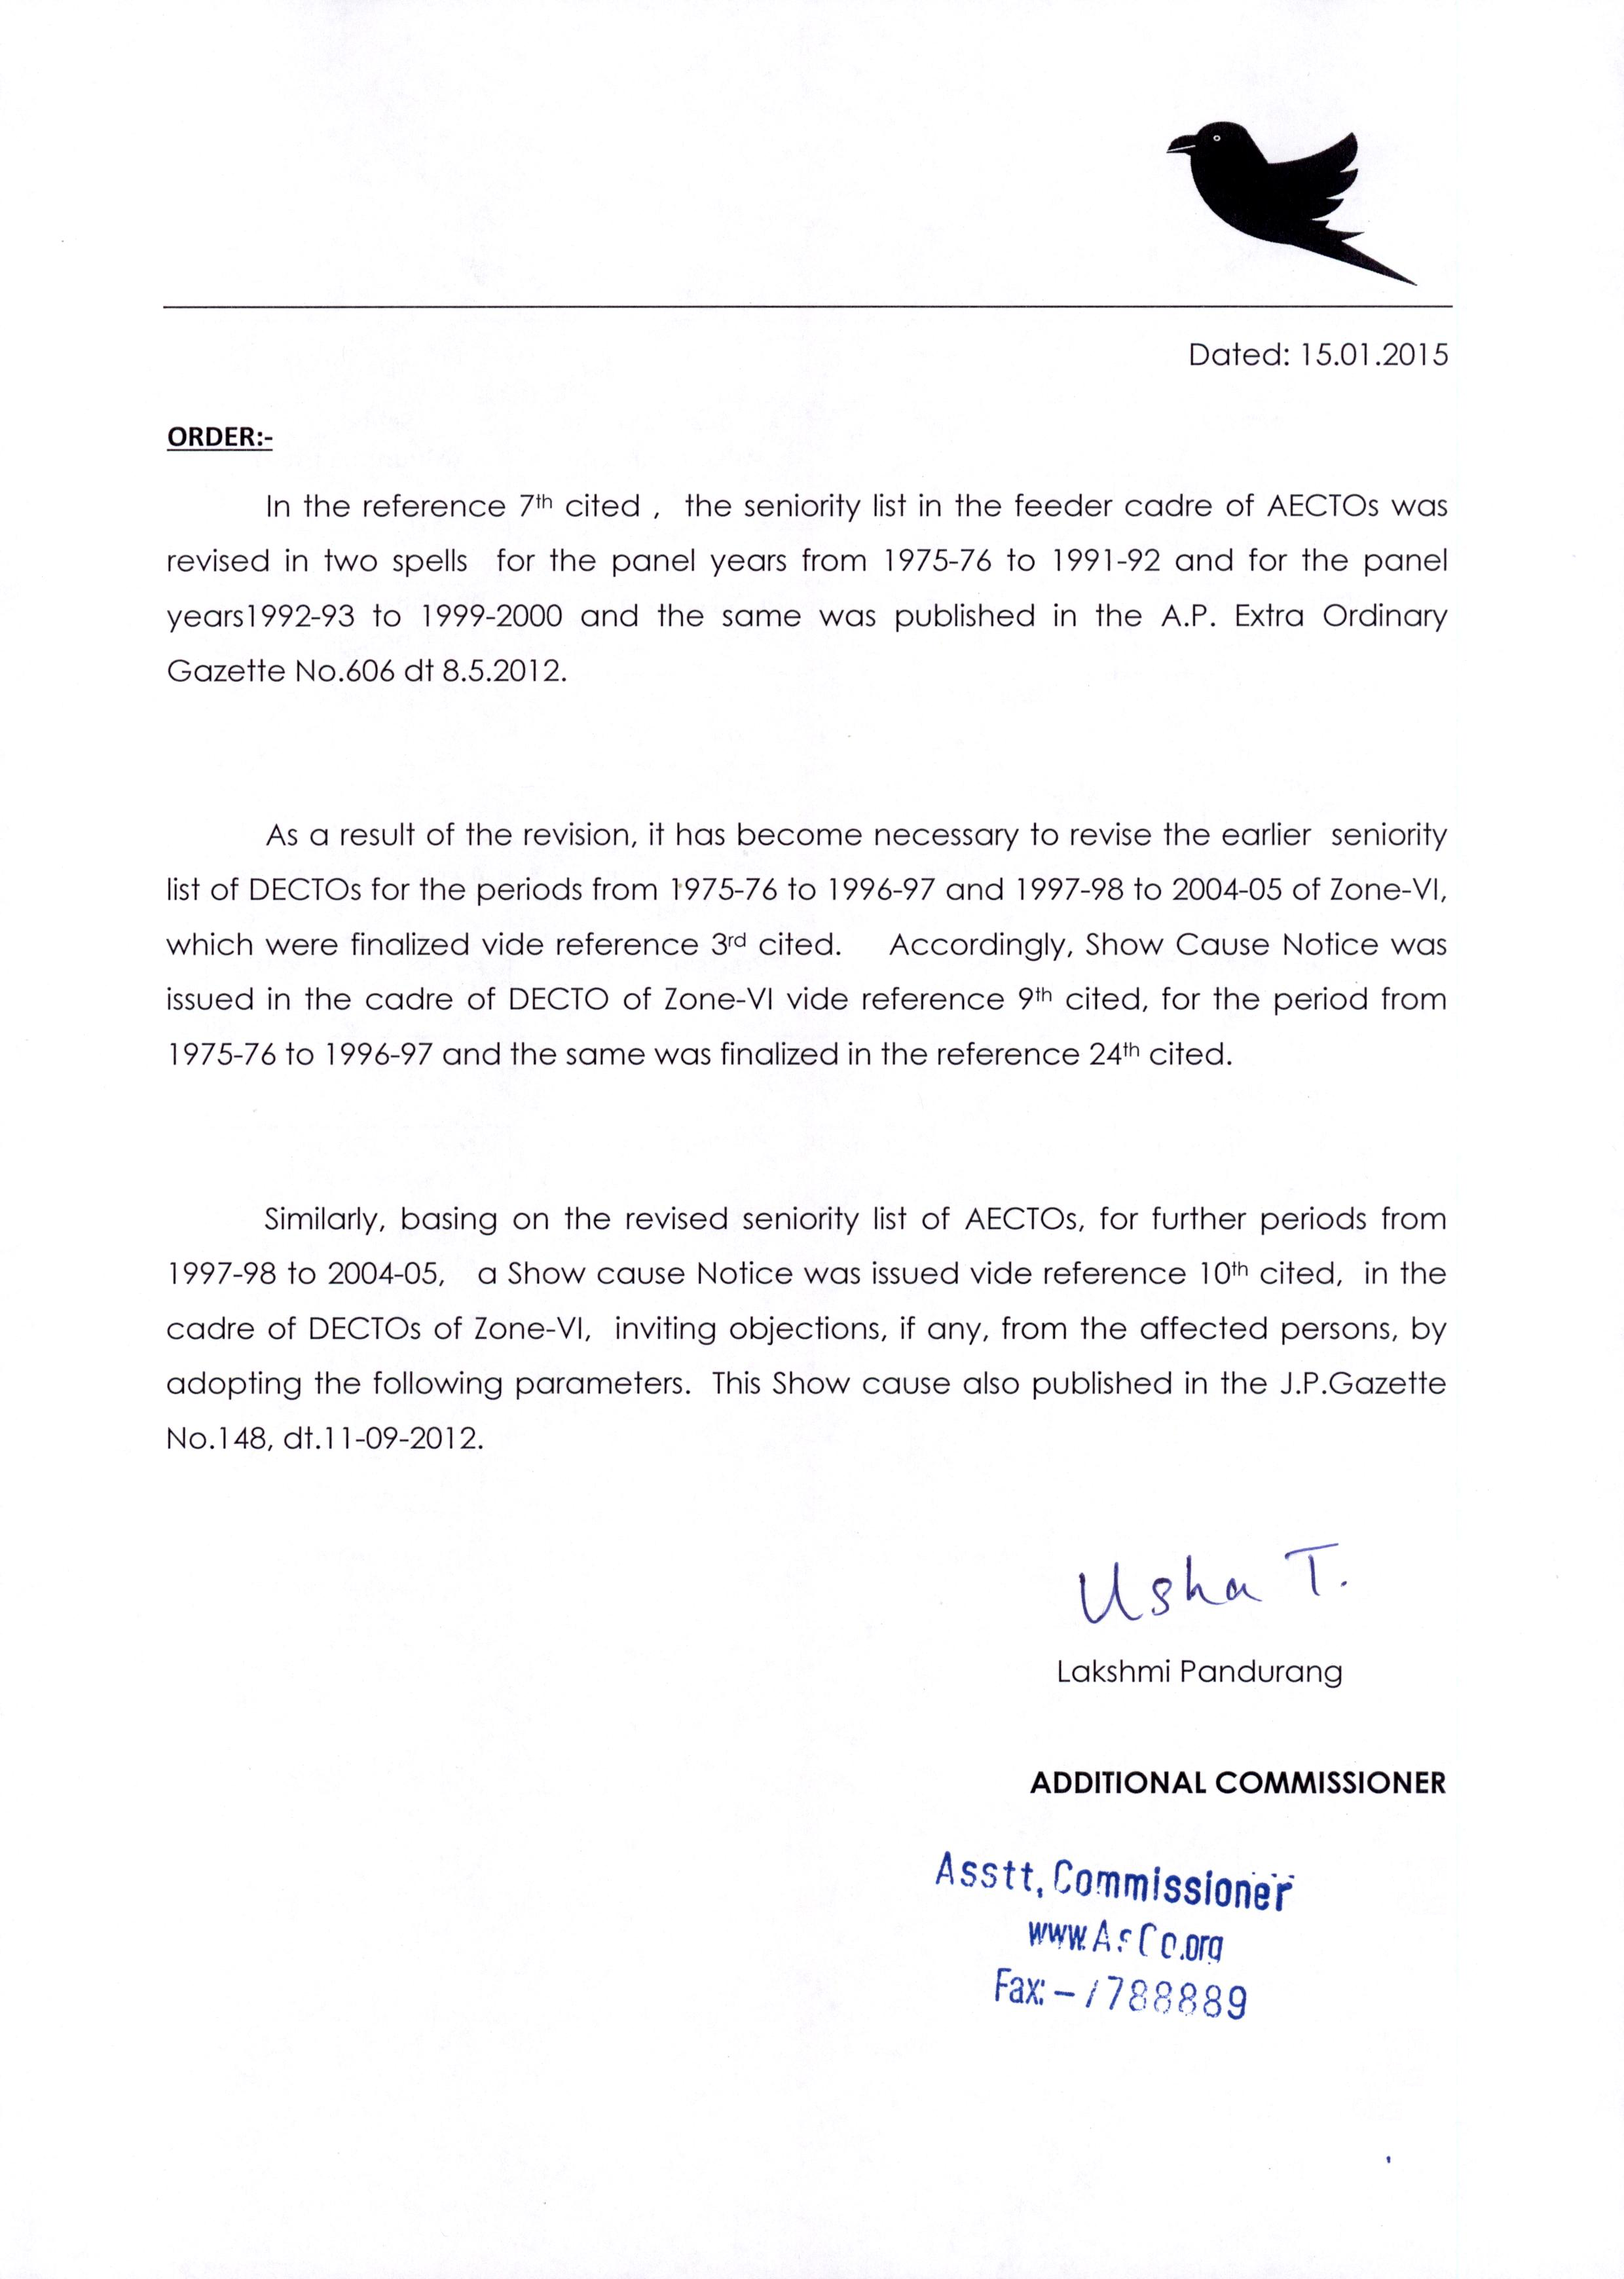Signature: (1065, 1529, 1359, 1634)
